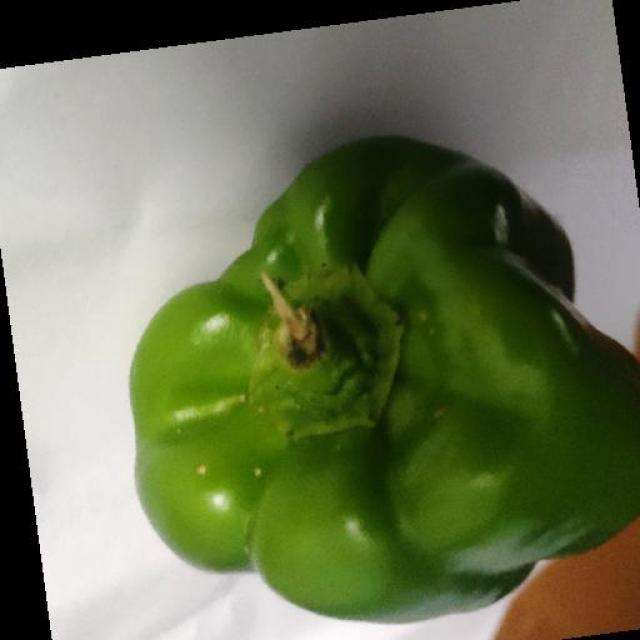Fresh_Capsicum: (143, 195, 640, 626)
